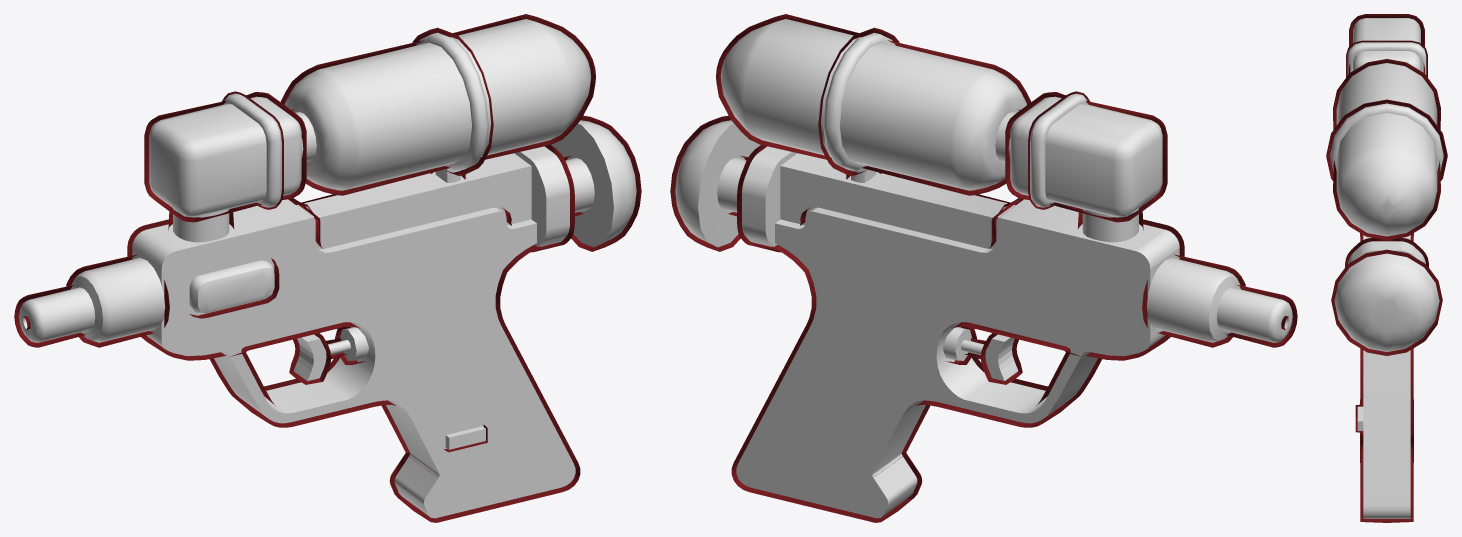
File: WaterPistol.fbx
3 renders of one model, left to right at view 1: azimuth 30°, elevation 25°; view 2: azimuth 150°, elevation 25°; view 3: azimuth 270°, elevation 25°, orthographic. The views are drawn at different scales.
Parts seen in each view (by area): view 1: WaterPistol, Outline; view 2: WaterPistol, Outline; view 3: WaterPistol, Outline.
Boxes of the visible parts, x1,y1,x2,y2 form: WaterPistol: (19,19,636,518); Outline: (14,14,641,522); WaterPistol: (675,19,1292,518); Outline: (670,14,1297,522); WaterPistol: (1330,18,1443,518); Outline: (1326,14,1447,522).
Size of the model in its own units: 628 by 469 by 135.
